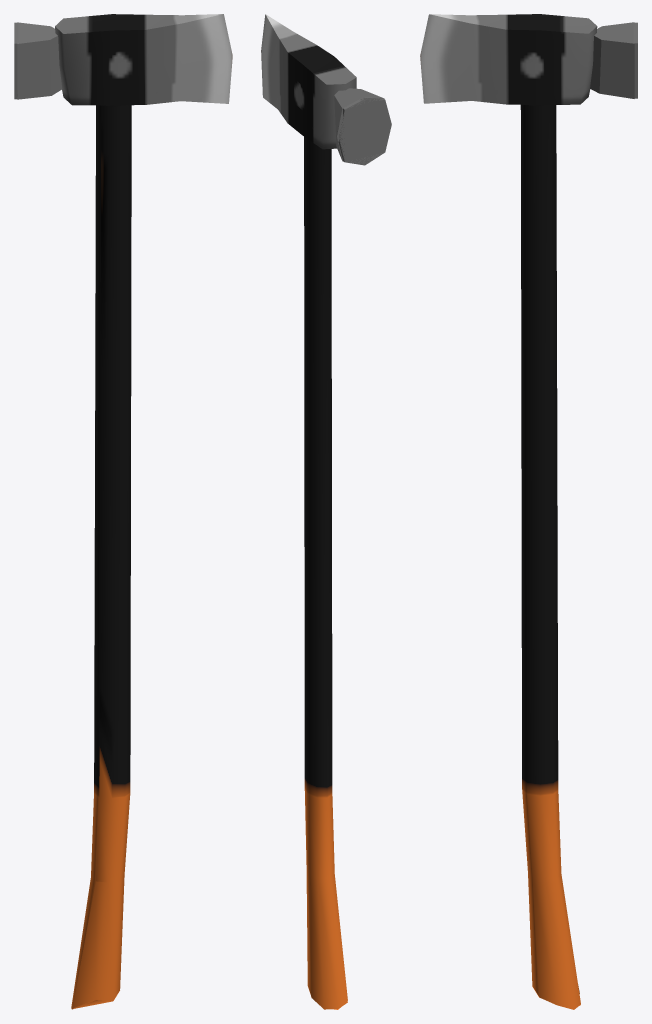
Rendered from AxeMaul.fbx.
The picture shows the model from 3 angles, left to right: view 1: azimuth 90°, elevation 25°; view 2: azimuth 210°, elevation 25°; view 3: azimuth 270°, elevation 25°; orthographic projection. The views are drawn at different scales.
Visible parts, largest first — view 1: node_f3c64bfa_3a40_4813_b338_9256c8486369_mesh0; view 2: node_f3c64bfa_3a40_4813_b338_9256c8486369_mesh0; view 3: node_f3c64bfa_3a40_4813_b338_9256c8486369_mesh0.
Boxes of the visible parts, x1,y1,x2,y2 form: node_f3c64bfa_3a40_4813_b338_9256c8486369_mesh0: (14,14,232,1009); node_f3c64bfa_3a40_4813_b338_9256c8486369_mesh0: (261,14,391,1009); node_f3c64bfa_3a40_4813_b338_9256c8486369_mesh0: (420,14,637,1009).
Bounding box in the file's own units: 0.0431 × 0.727 × 0.1447.
